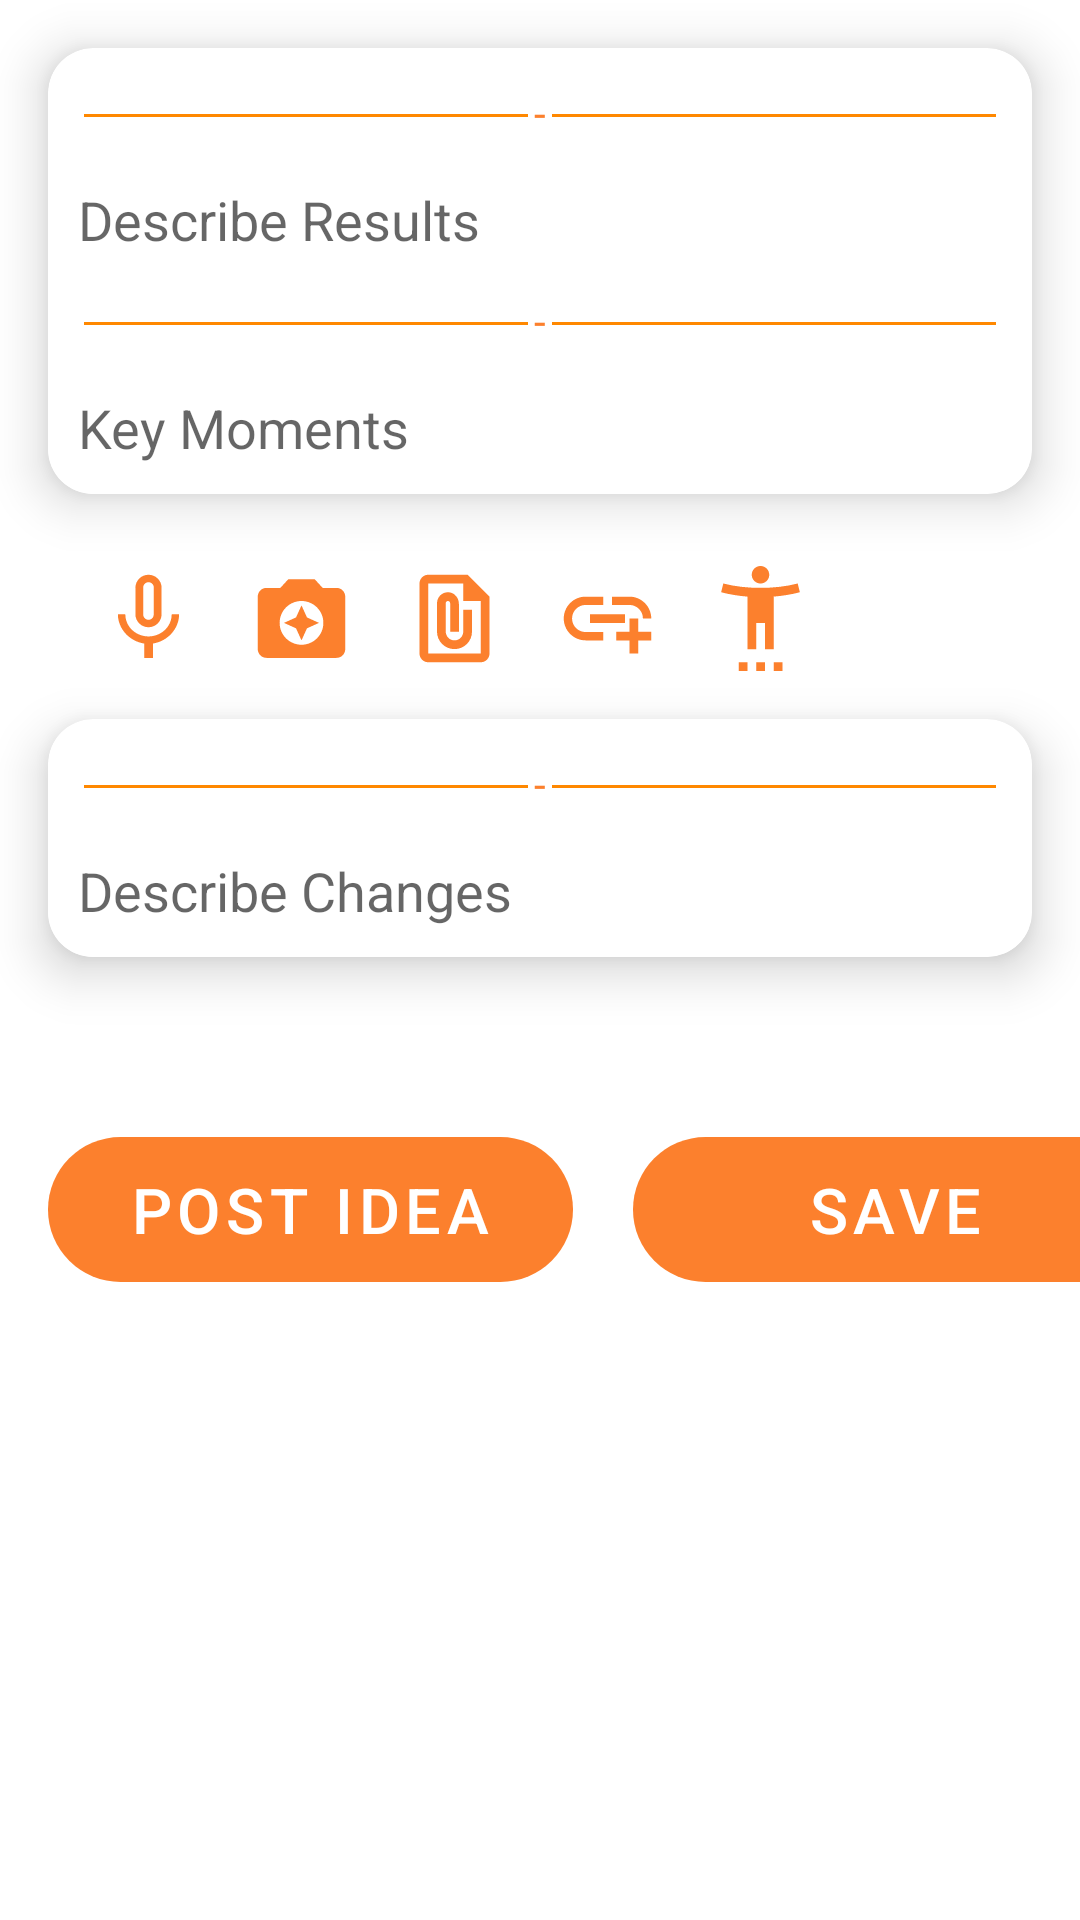

Screen size 1080*1920. Icon name, then its box in pixels as (x1, y1, x2, y2):
camera: (257, 579, 346, 658)
doc: (419, 574, 490, 663)
link: (563, 596, 652, 654)
mic: (118, 574, 179, 658)
person: (721, 566, 800, 671)
